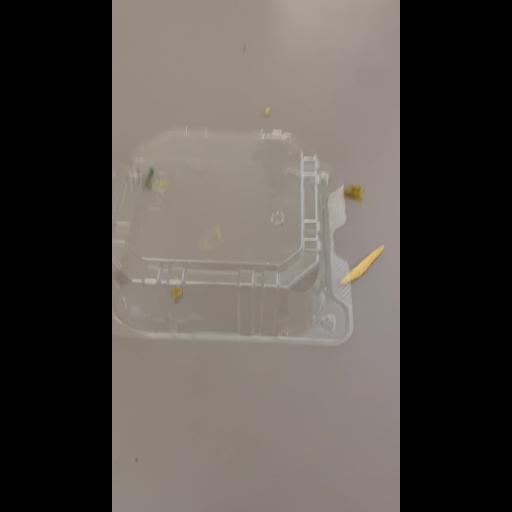small_plastic_container: (112, 123, 362, 365)
